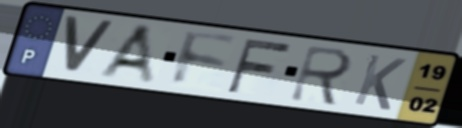A: (95, 22, 158, 88)
F: (170, 28, 241, 89), (223, 36, 295, 95)
K: (350, 52, 410, 113)
R: (286, 43, 357, 109)
V: (62, 13, 119, 77)
